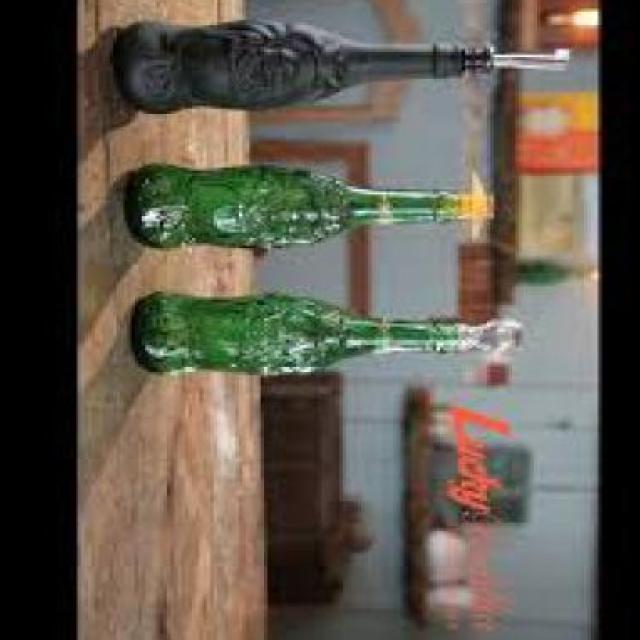kaca: (119, 16, 501, 110), (131, 159, 496, 251), (134, 288, 524, 372)
